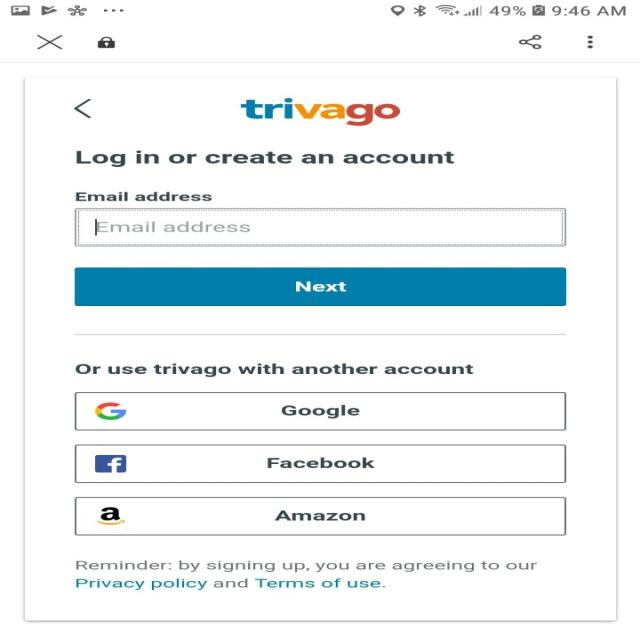EditText: (74, 208, 566, 246)
Icon: (36, 34, 64, 50), (518, 34, 542, 50), (74, 98, 92, 119), (96, 36, 115, 48), (586, 35, 593, 49)
Image: (239, 98, 400, 126)
Text: (75, 560, 537, 590), (77, 150, 454, 167), (75, 363, 472, 377), (95, 221, 250, 232), (76, 192, 212, 202)
TextButton: (74, 391, 566, 431), (74, 267, 566, 306), (74, 444, 566, 483), (74, 496, 566, 535)
